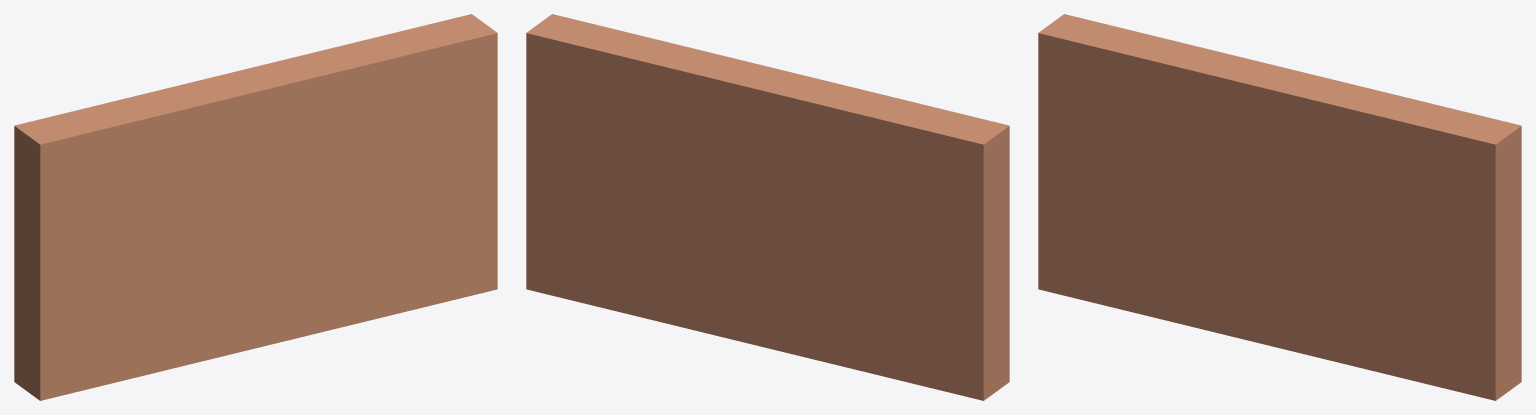
The picture shows the model from 3 angles, left to right: view 1: azimuth 30°, elevation 25°; view 2: azimuth 150°, elevation 25°; view 3: azimuth 330°, elevation 25°; orthographic projection.
Parts seen in each view (by area): view 1: GF-L12-BLK-REDLINE-B3-B4-034; view 2: GF-L12-BLK-REDLINE-B3-B4-034; view 3: GF-L12-BLK-REDLINE-B3-B4-034.
Part boxes in pixels (box(x1,y1,x2,y2)): GF-L12-BLK-REDLINE-B3-B4-034: box(14, 14, 497, 400); GF-L12-BLK-REDLINE-B3-B4-034: box(526, 14, 1009, 400); GF-L12-BLK-REDLINE-B3-B4-034: box(1038, 14, 1521, 400).
Bounding box in the file's own units: 0.355 × 0.19 × 0.035.
